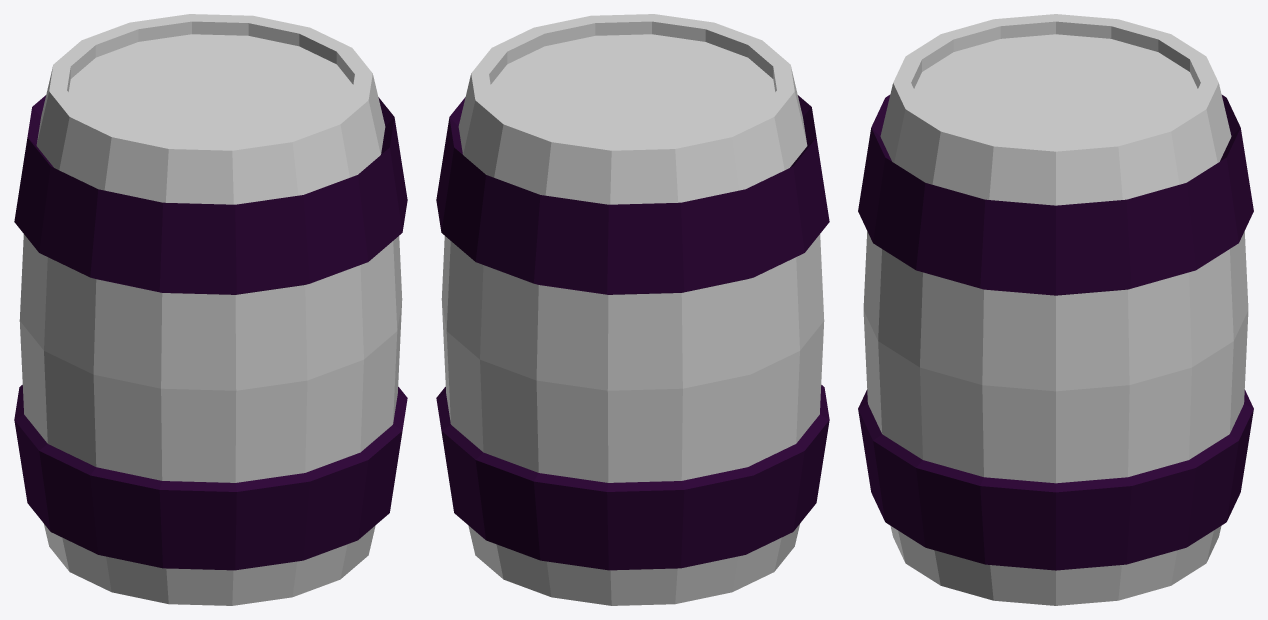
File: Barrel.fbx
3 renders of one model, left to right at view 1: azimuth 30°, elevation 25°; view 2: azimuth 150°, elevation 25°; view 3: azimuth 270°, elevation 25°, orthographic.
Parts seen in each view (by area): view 1: Barrel; view 2: Barrel; view 3: Barrel.
Boxes of the visible parts, <box> form: Barrel: <box>14,14,407,605</box>; Barrel: <box>436,14,829,605</box>; Barrel: <box>858,14,1253,605</box>.
Bounding box in the file's own units: 264 × 334 × 264.
